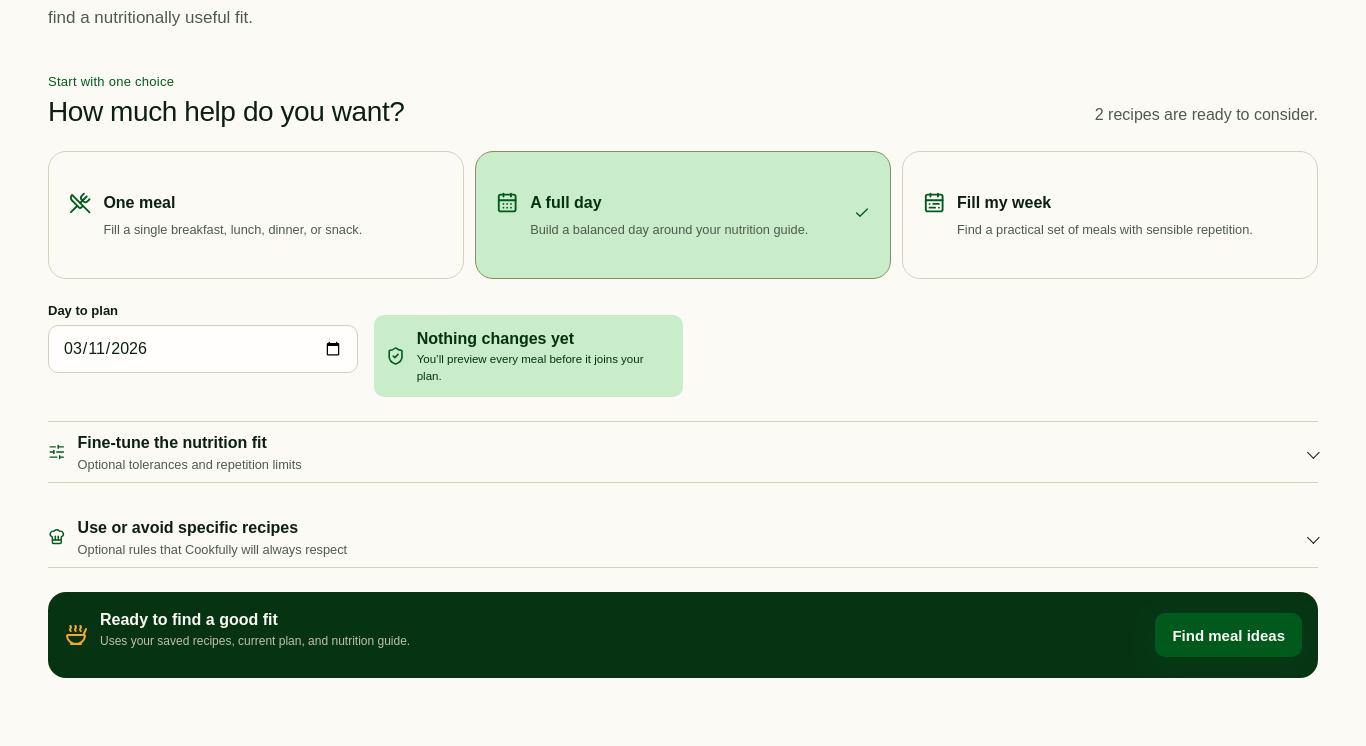
suggestion UI › selectively accepts preview items and reports exact accepted-total parity
(page scrolled)
Step 1. Click the button "Find meal ideas" → (1229, 635), box [1156,613,1302,657]
(page scrolled)
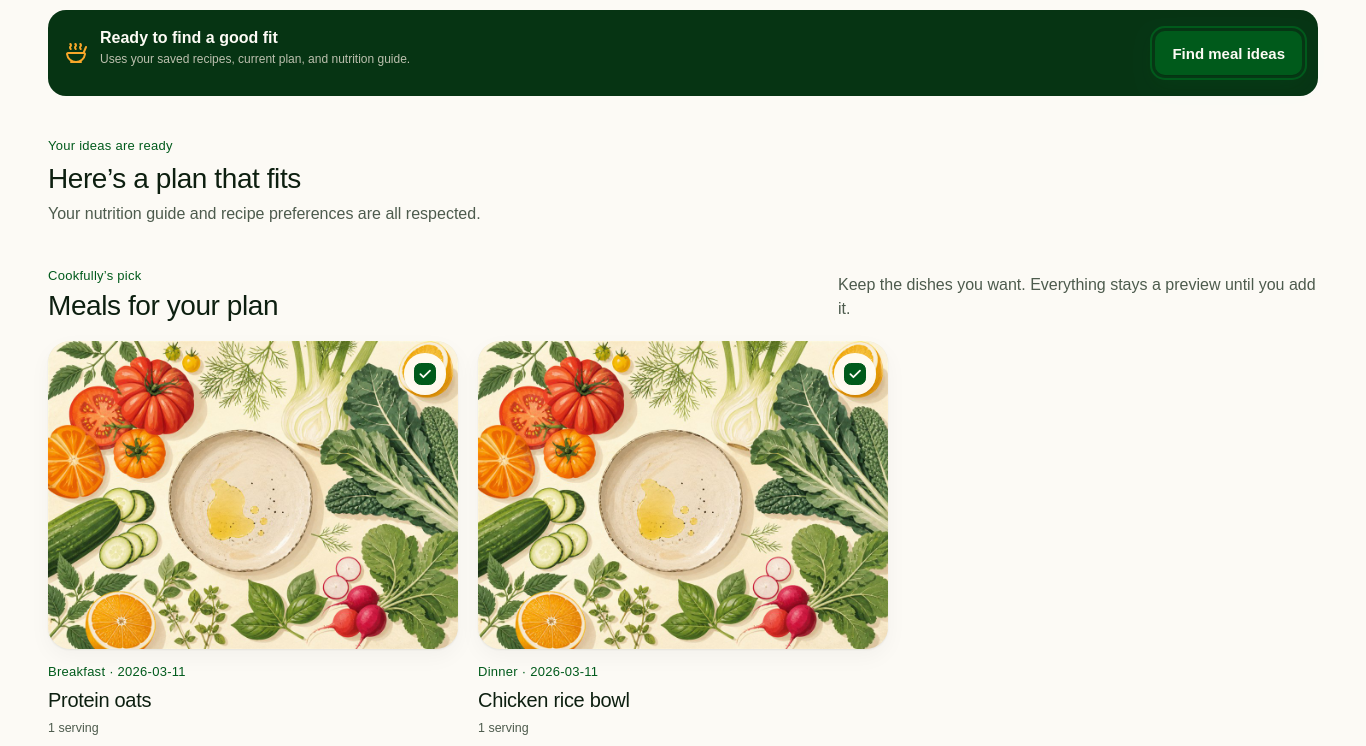
Expected: the heading "Here’s a plan that fits" is shown, [48,163,301,194]
Step 2. Click the checkbox named "Accept Chicken rice bowl" → (855, 374), box [844,363,866,385]
(page scrolled)
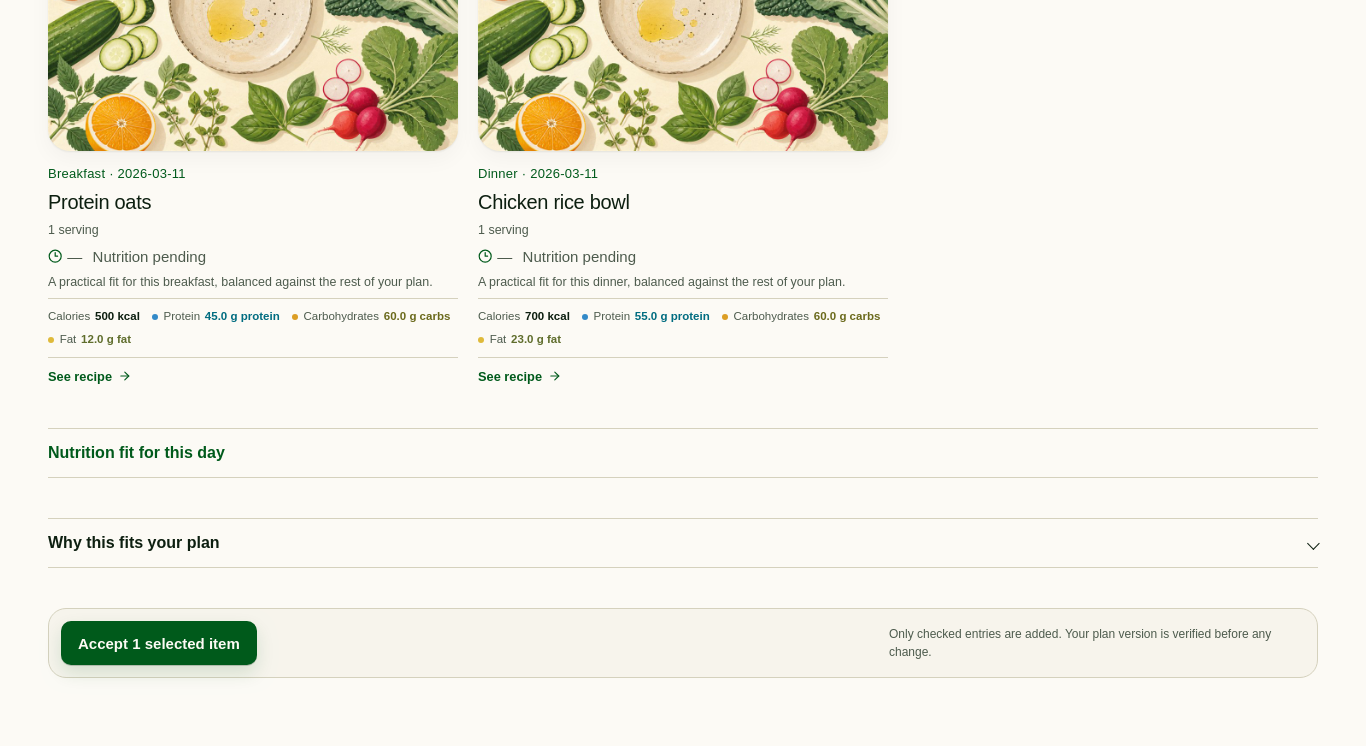
Step 3. Click the button "Accept 1 selected item" → (159, 643), box [61,621,257,665]
(page scrolled)
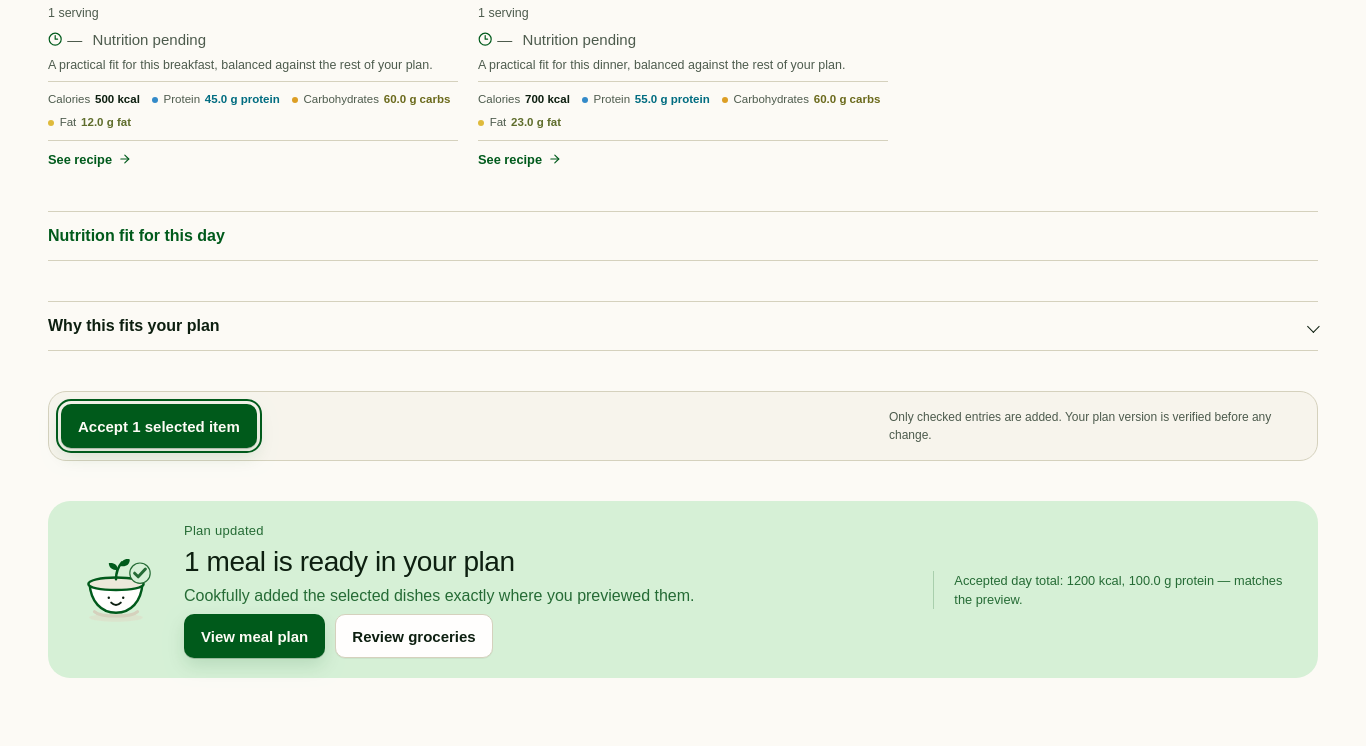
Expected: the message with test id "success-panel" is shown, [48,501,1318,678]
Expected: the heading "1 meal is ready in your plan" is shown, [184,546,515,577]
